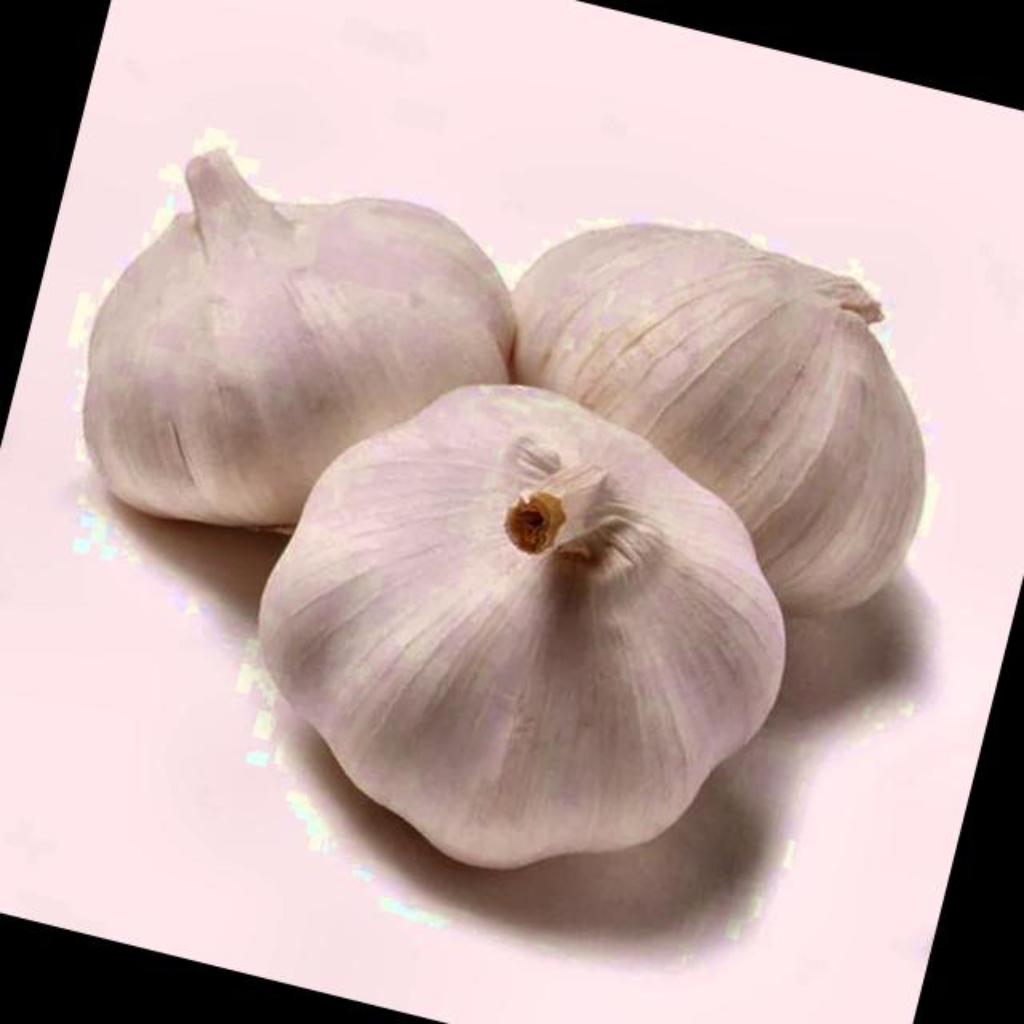garlic: (260, 386, 784, 867), (84, 150, 514, 526), (512, 224, 924, 613)
